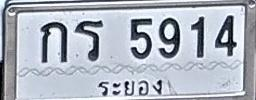1: (190, 16, 204, 58)
4: (214, 14, 236, 56)
5: (130, 18, 152, 60)
9: (158, 17, 180, 58)
A01: (40, 21, 67, 63)
A35: (74, 20, 103, 61)
RYG: (93, 76, 167, 99)
